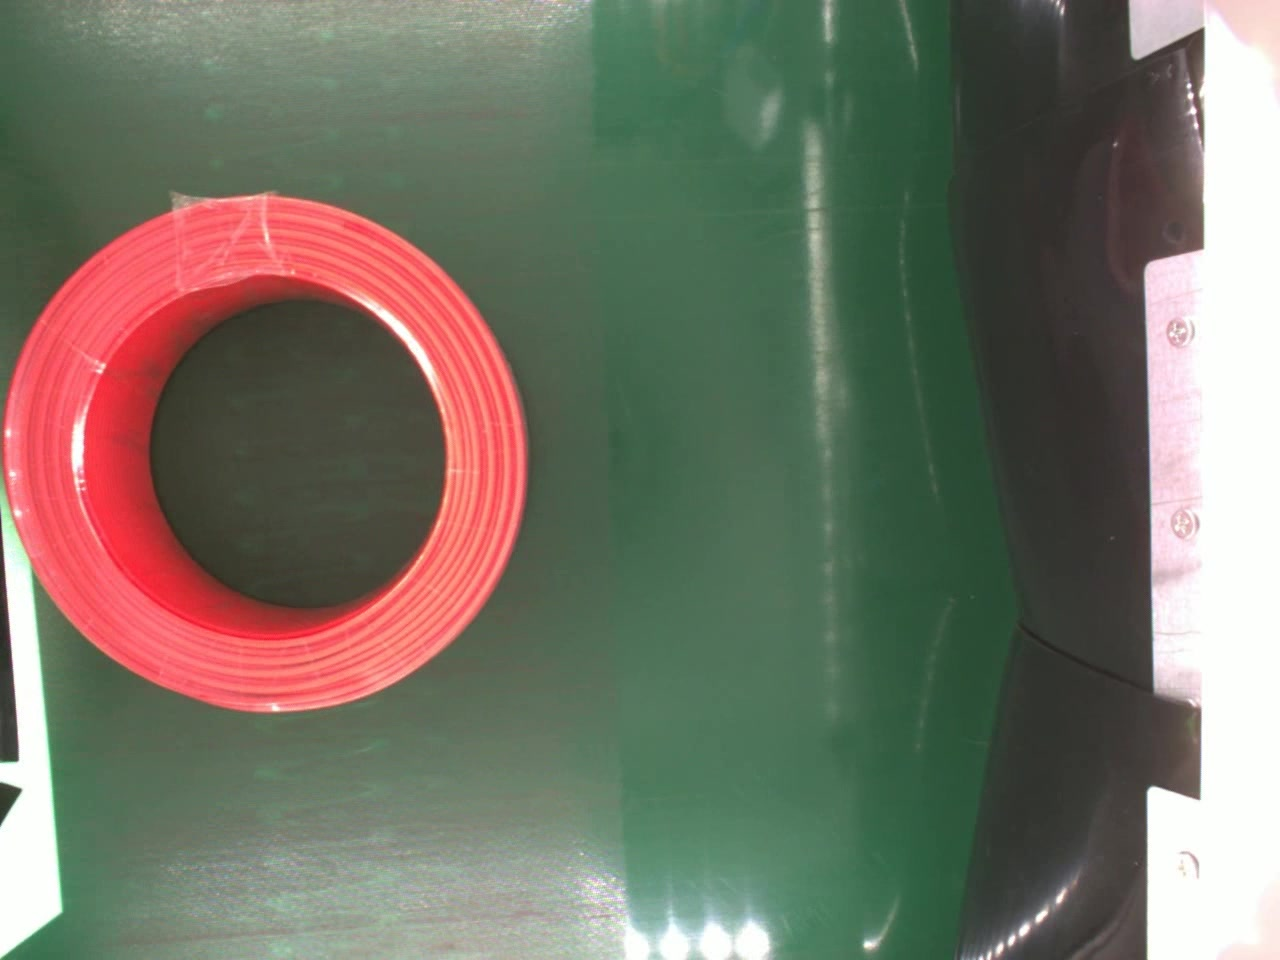red: (2, 192, 532, 716)
